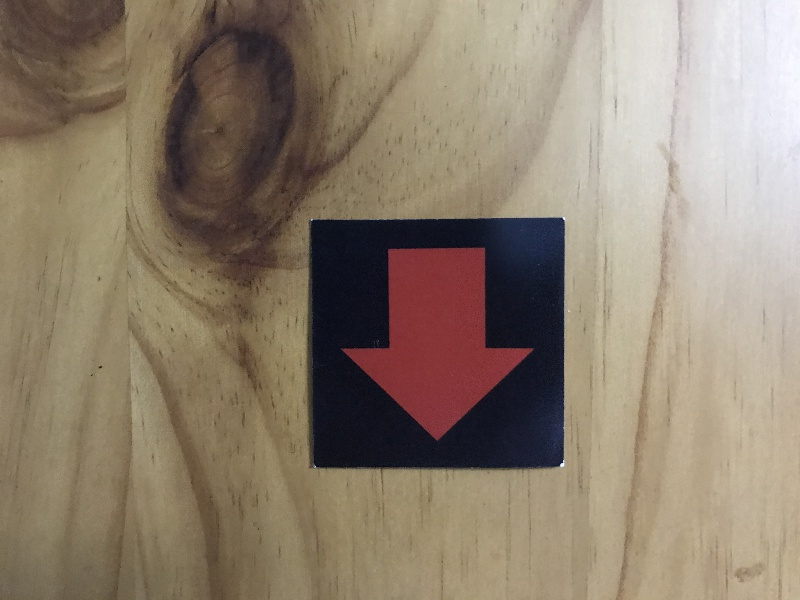DA-2: (312, 222, 564, 466)
